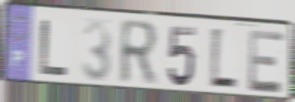3: (81, 19, 113, 84)
5: (166, 25, 199, 88)
E: (247, 28, 287, 96)
L: (208, 25, 239, 93), (38, 18, 71, 78)
R: (118, 17, 161, 88)
